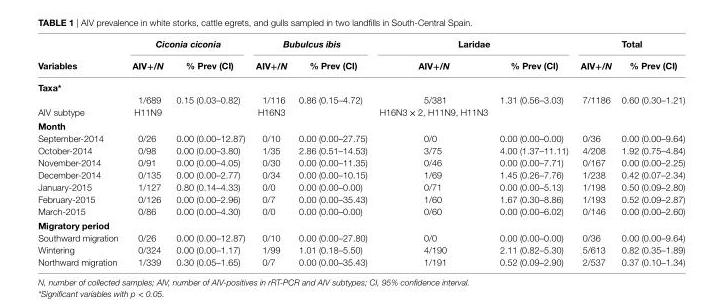table: (37, 37, 684, 266)
table column: (372, 37, 493, 266), (37, 37, 124, 266), (169, 37, 249, 266), (292, 37, 372, 266), (493, 37, 573, 266), (615, 37, 684, 266), (124, 37, 169, 266), (249, 37, 292, 266), (573, 37, 615, 266)
table column header: (37, 37, 684, 77)
table projected row header: (37, 77, 684, 93), (37, 217, 684, 230), (37, 119, 684, 131)
table row: (37, 53, 684, 77), (37, 37, 684, 53), (37, 77, 684, 93), (37, 104, 684, 119), (37, 155, 684, 168), (37, 204, 684, 217), (37, 217, 684, 230), (37, 230, 684, 243), (37, 119, 684, 131), (37, 131, 684, 143), (37, 143, 684, 155), (37, 168, 684, 180), (37, 180, 684, 192), (37, 192, 684, 204), (37, 243, 684, 255), (37, 93, 684, 104), (37, 255, 684, 266)
table spanning cell: (37, 37, 124, 77), (372, 37, 573, 53), (124, 37, 249, 53), (249, 37, 372, 53), (573, 37, 684, 53)
